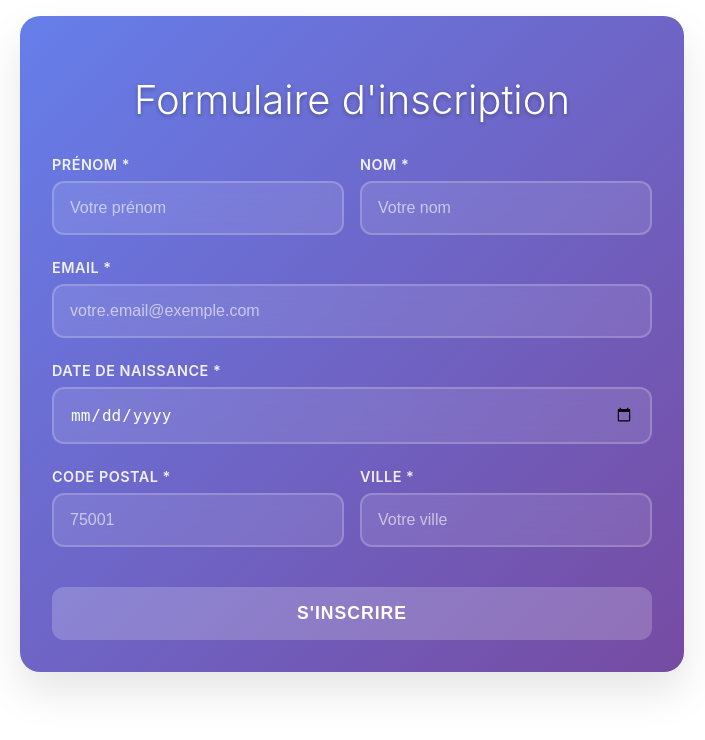
UserForm Component › Validation des champs › devrait afficher une erreur pour un email invalide
The width and height of the screenshot is (705, 740).
Step 1. Type "invalid-email" into the field labelled "Email *" → (352, 311), box [52,284,652,338]
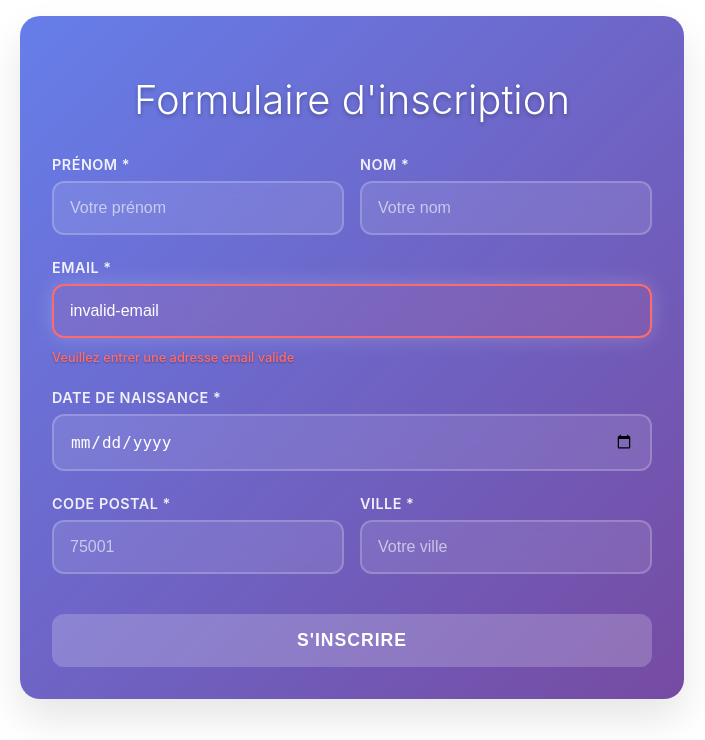
expect the text "Veuillez entrer une adresse email valide" is shown: met, box [52,350,294,365]
